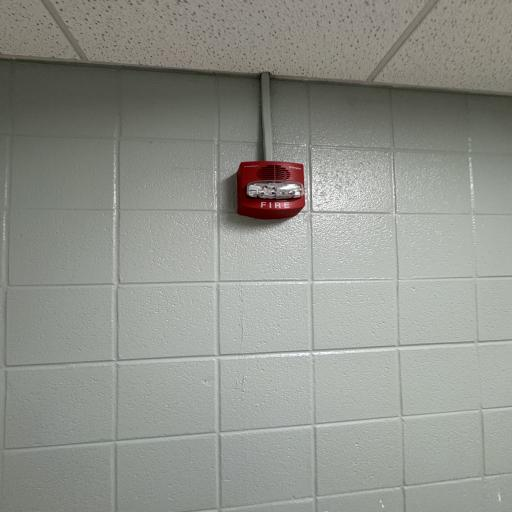fire alarm signal: (230, 156, 314, 226)
